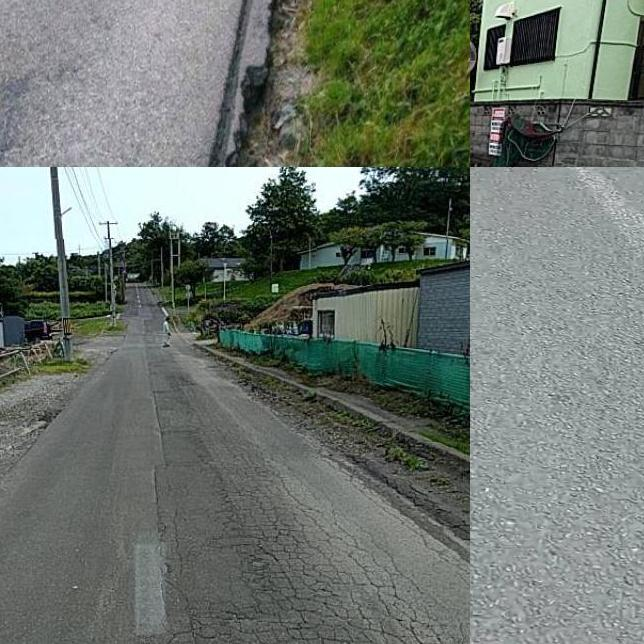Pinggir: (188, 0, 307, 167)
Retak Buaya: (222, 469, 448, 644)
